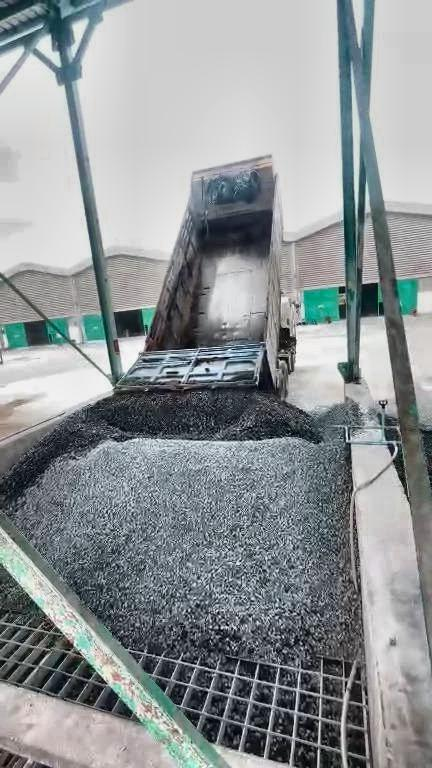gravel: (1, 391, 367, 662), (1, 565, 59, 633), (182, 257, 202, 348), (393, 444, 410, 506), (420, 422, 432, 495)
sand: (1, 398, 52, 439)
